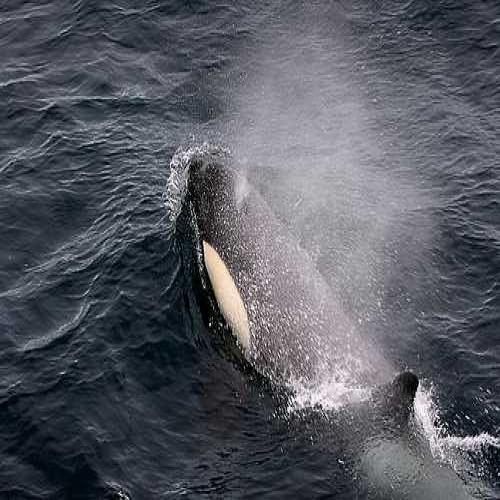killer_whale-endangered: (157, 126, 465, 462)
